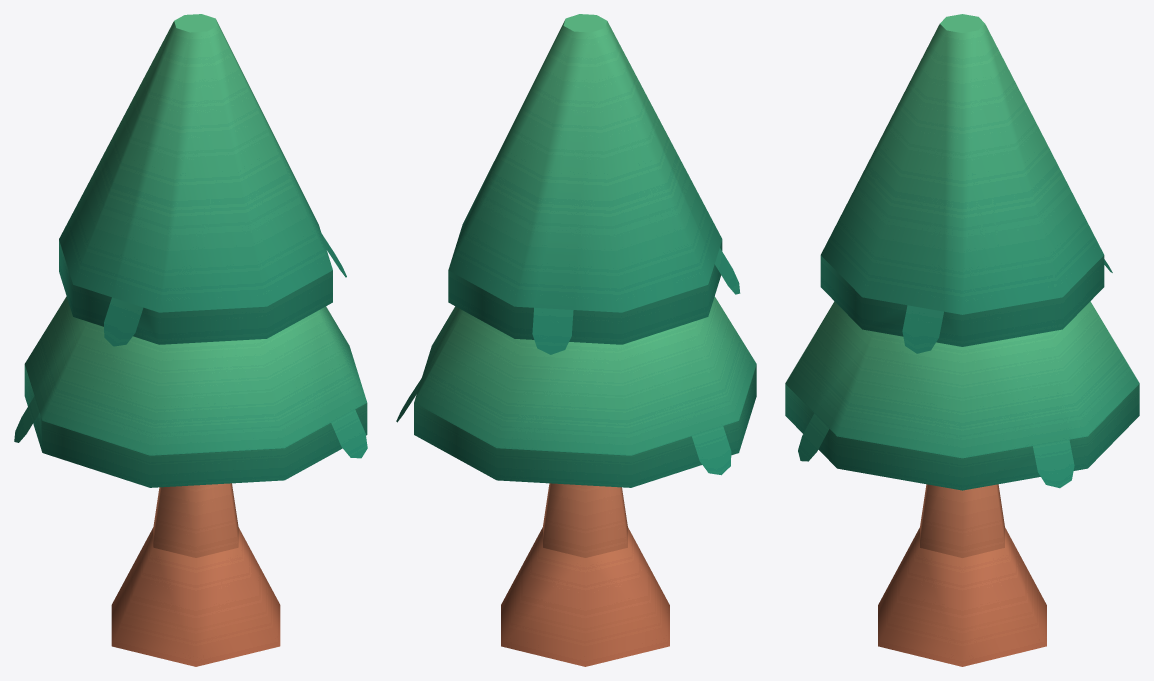
Rendered from tree-small.glb.
The picture shows the model from 3 angles, left to right: view 1: azimuth 30°, elevation 25°; view 2: azimuth 150°, elevation 25°; view 3: azimuth 270°, elevation 25°; orthographic projection.
Parts seen in each view (by area): view 1: tree-small; view 2: tree-small; view 3: tree-small.
Boxes of the visible parts, x1=… form: tree-small: x1=14, y1=14, x2=367, y2=666; tree-small: x1=396, y1=14, x2=756, y2=666; tree-small: x1=785, y1=14, x2=1139, y2=666.
Bounding box in the file's own units: 0.7381 × 1.35 × 0.72.
1 material, 1 textured.
